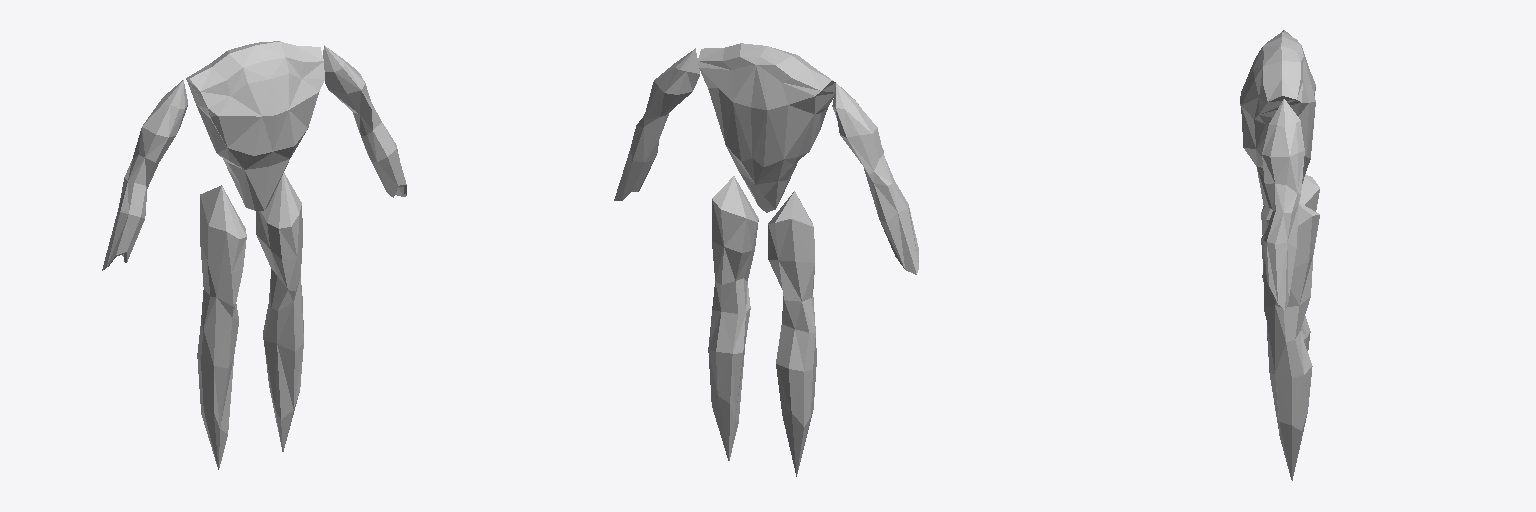
The model's file is Character.obj.
The picture shows the model from 3 angles: view 1: azimuth 30°, elevation 25°; view 2: azimuth 150°, elevation 25°; view 3: azimuth 270°, elevation 25°; orthographic projection.
Parts seen in each view (by area): view 1: Pyramid002; view 2: Pyramid002; view 3: Pyramid002.
Part boxes in pixels (x1,y1,x2,y2): Pyramid002: (102, 41, 406, 469); Pyramid002: (614, 43, 918, 476); Pyramid002: (1240, 30, 1319, 480).
Size of the model in its own units: 290 by 384 by 66.88.